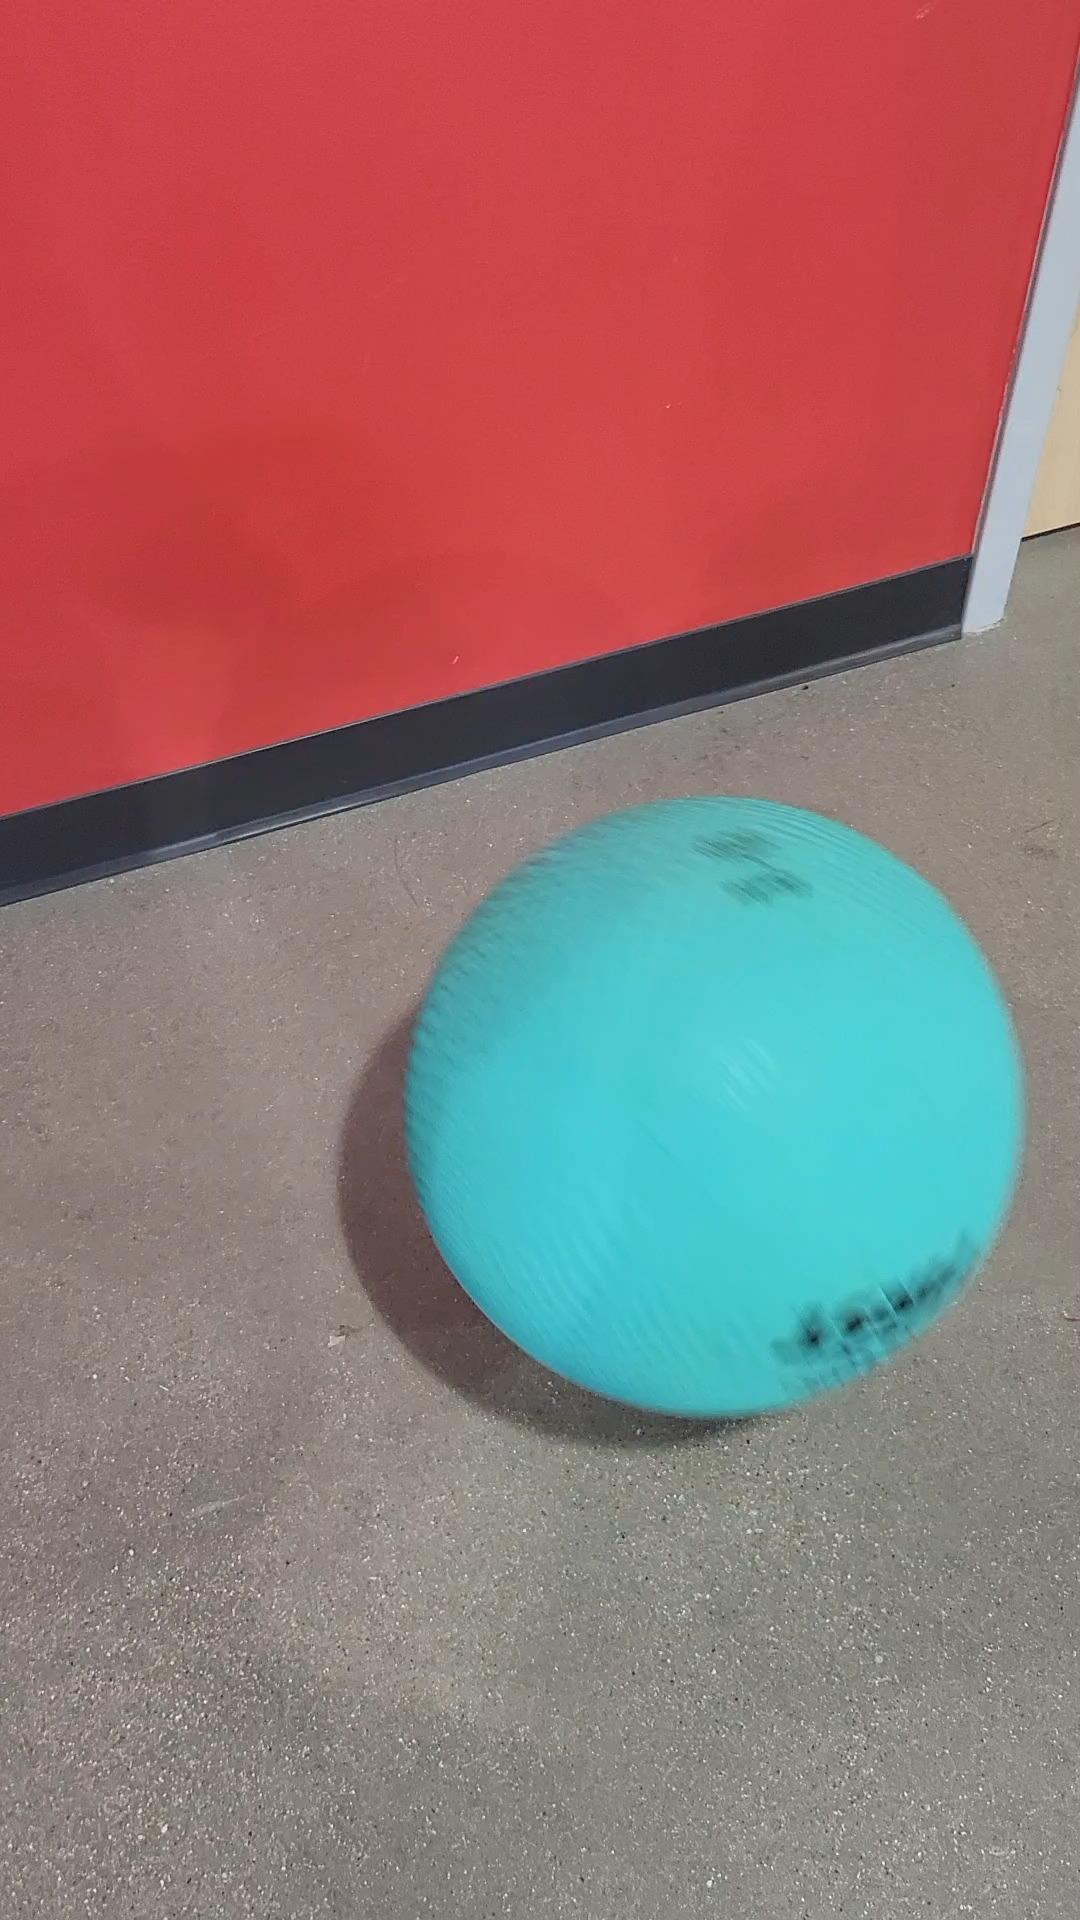algae: (411, 800, 1018, 1404)
